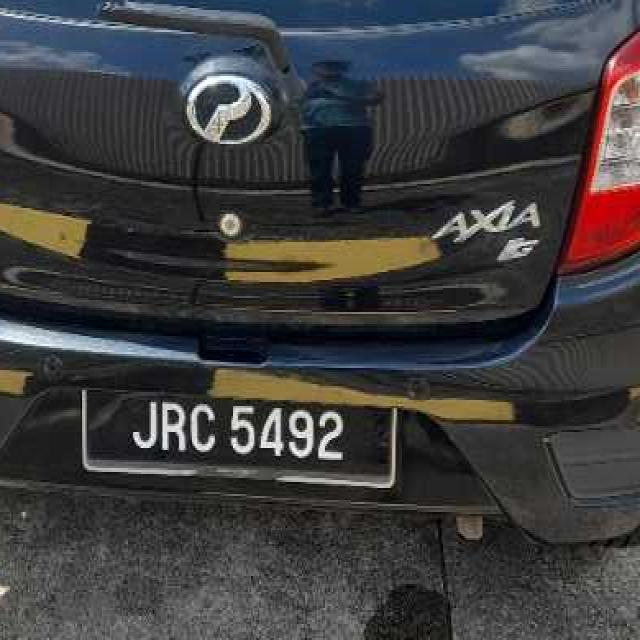car-plate: (72, 370, 409, 507)
